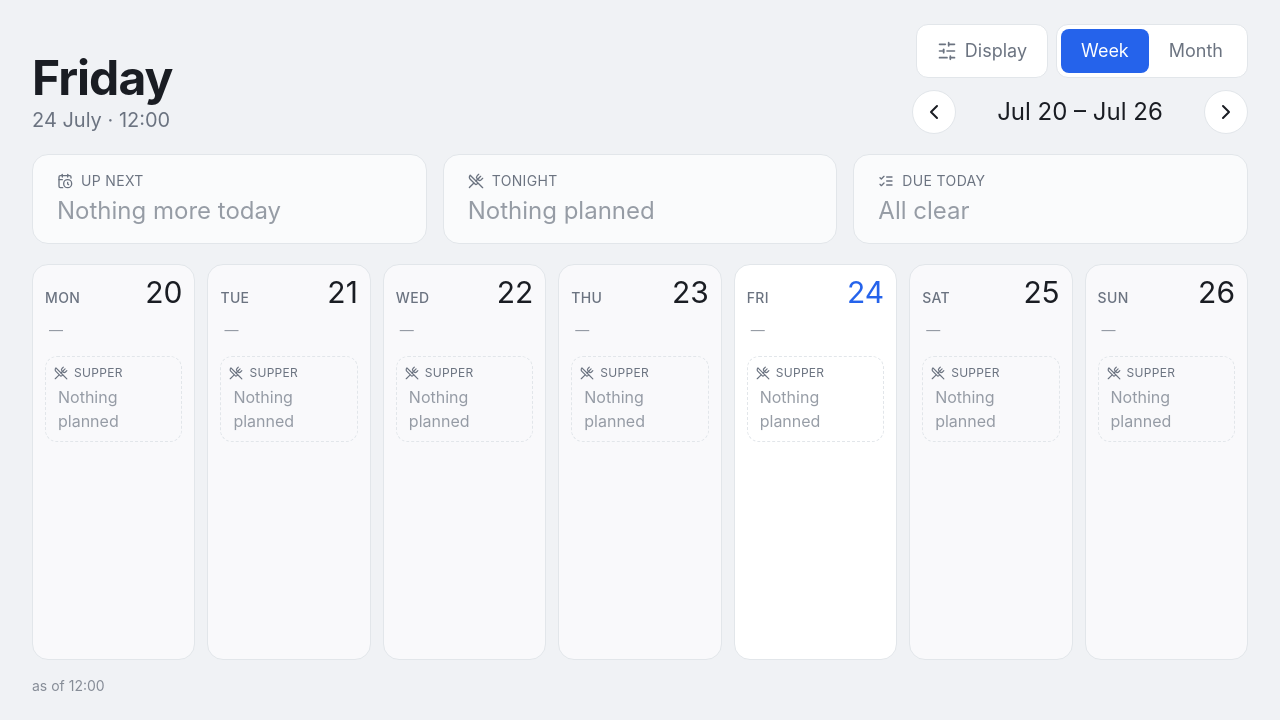
Scenario: HearthPage view + paging › reveals a "back to today" control once paged off the current week
The image size is (1280, 720).
Step 1. Click the button named "Next" → (1226,112), box [1204,90,1248,134]
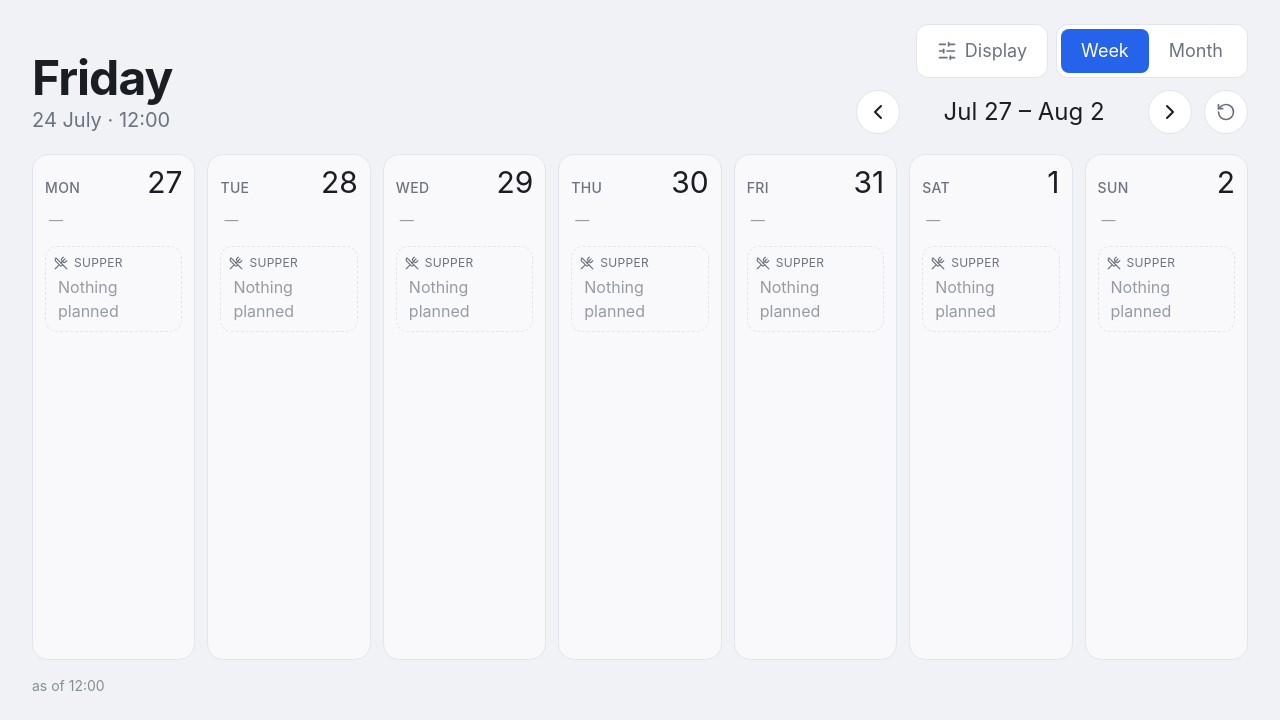
Result: the button named "Back to today" is shown at [1204,90,1248,134]
